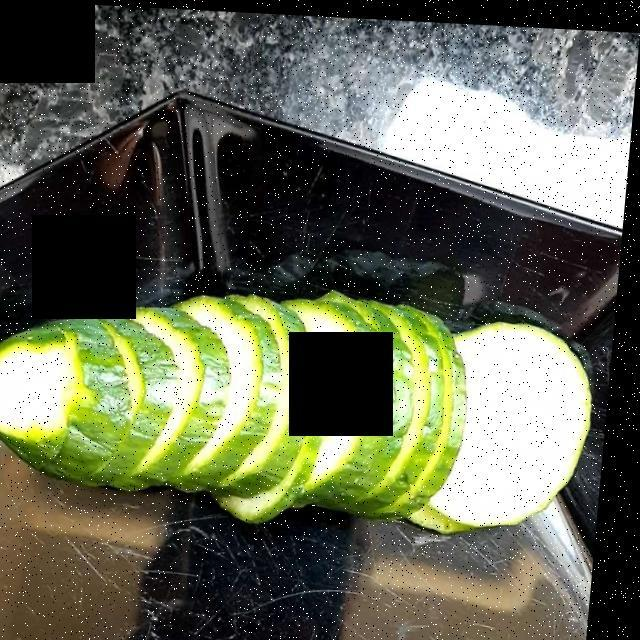cucumber: (0, 295, 600, 531)
